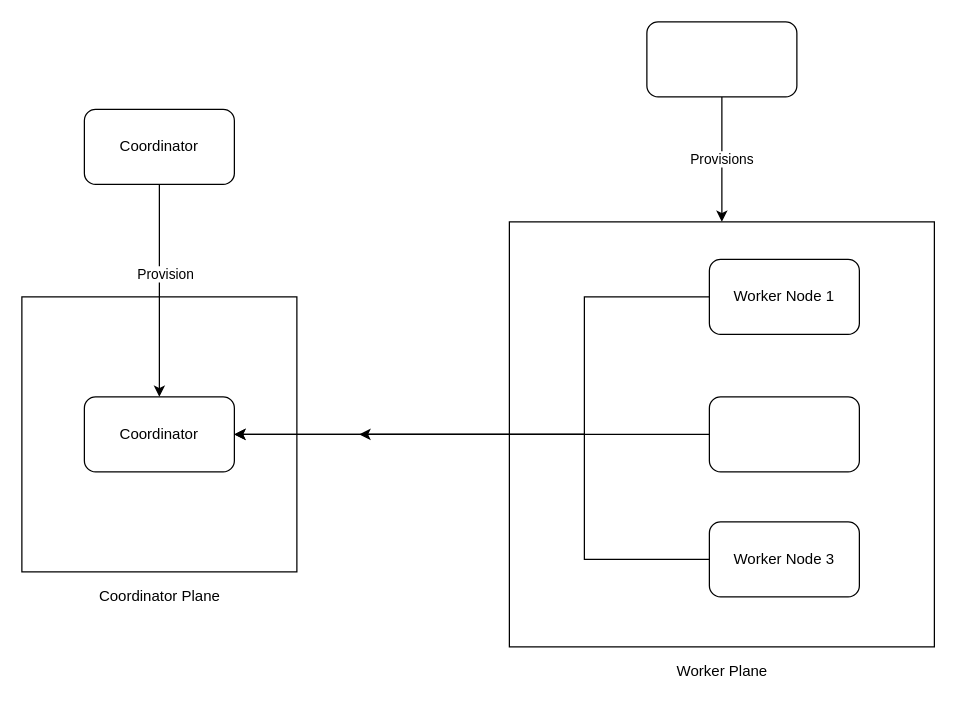
Some shapes in this 956 by 706 pixel diagram are drawn without their labels. Here are the shapes that lost their labels. From the top down, the centre of each, then its label:
At point 721,59: "Worker".
At point 783,434: "Worker Node 2".
